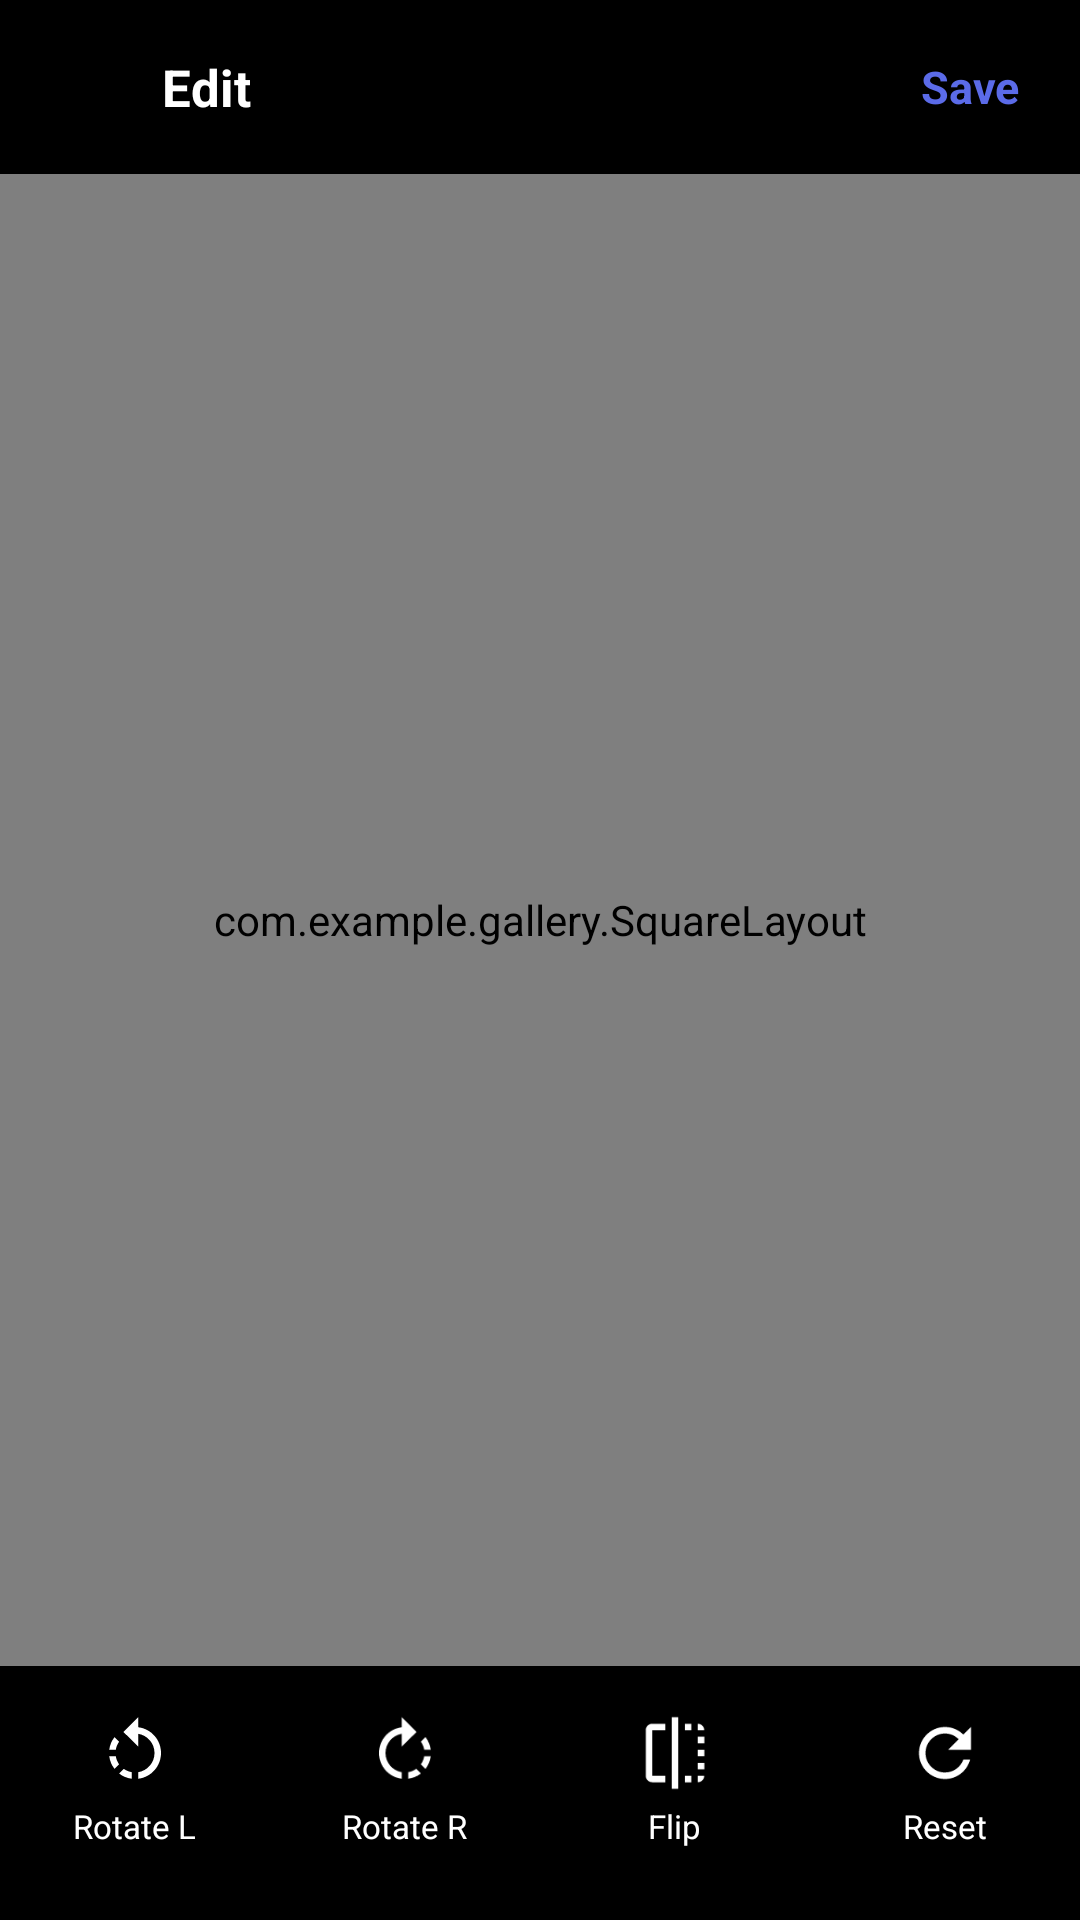

Screen size 1080px×1920px. Icon name, then its box in pixels as BBox(x1, y1, x2, y2):
refresh: BBox(918, 1726, 972, 1780)
